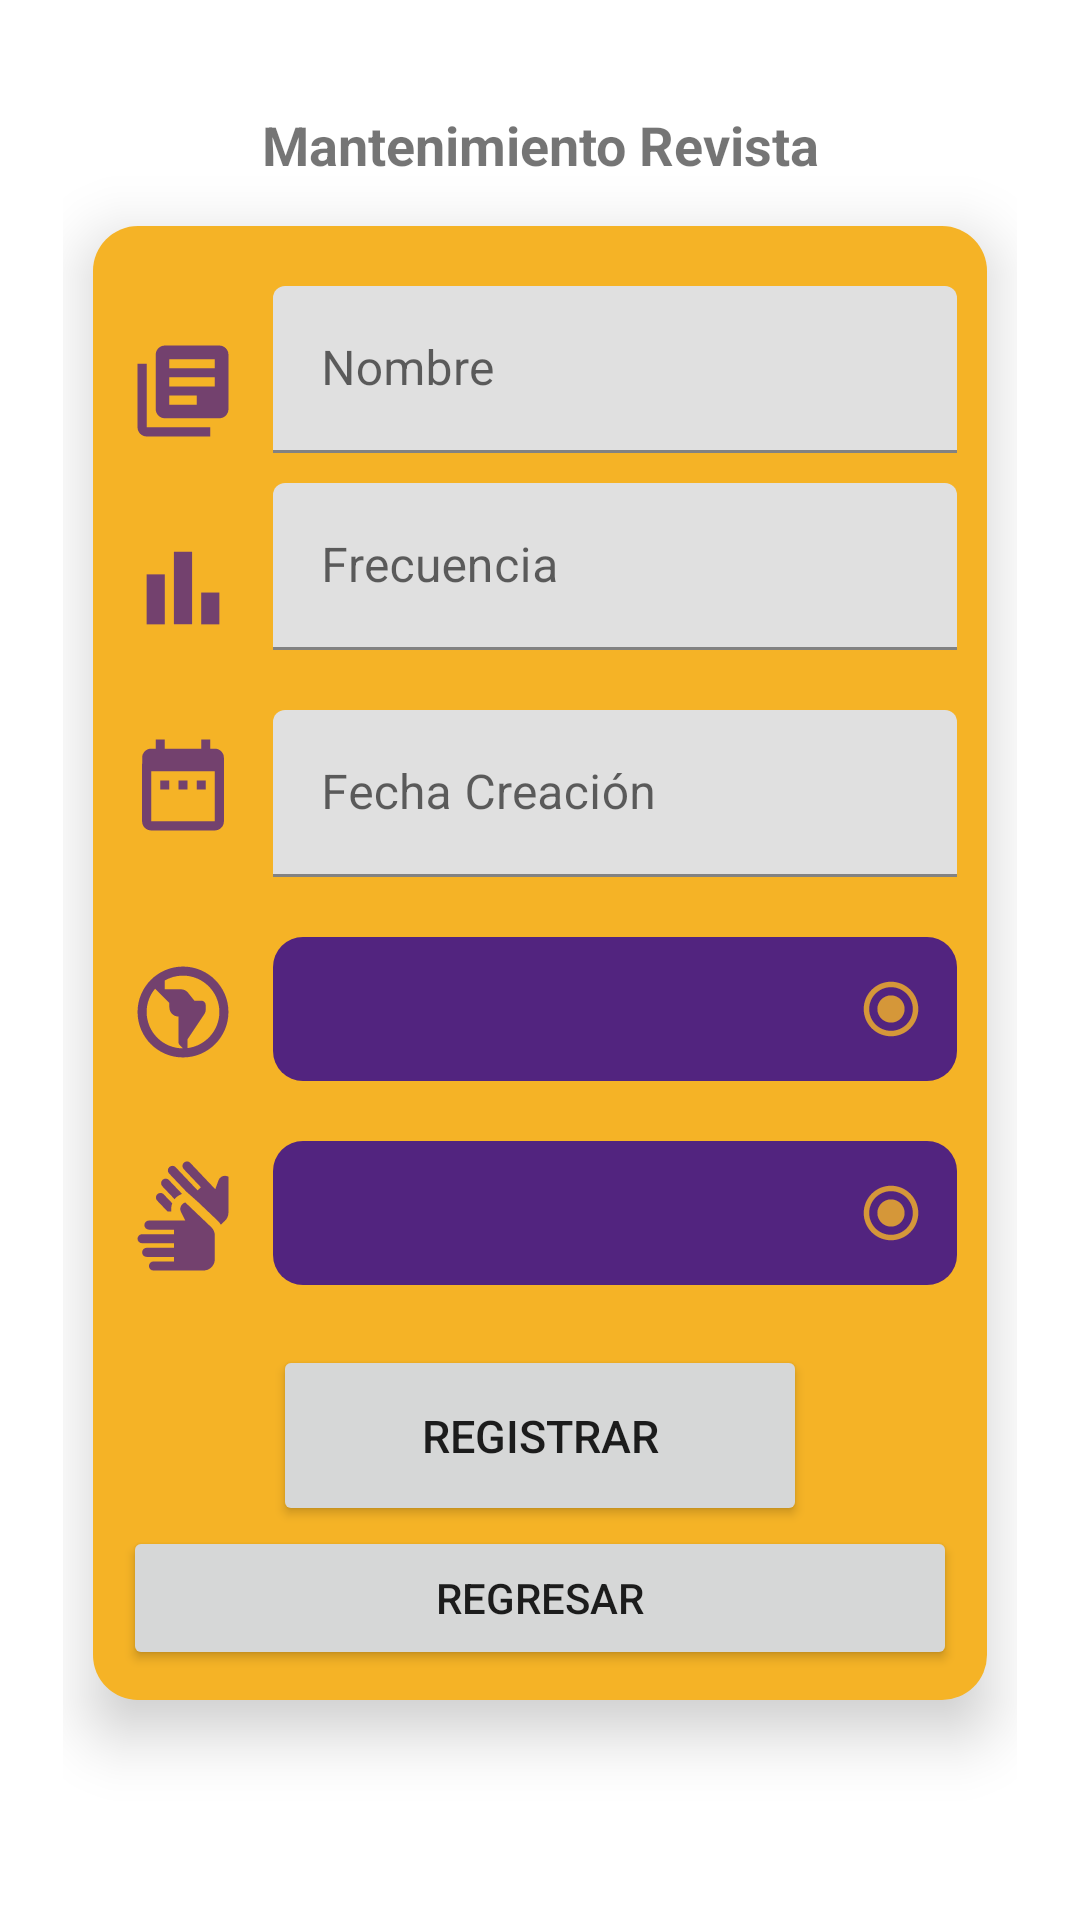

Icons on this 1080x1920 Android screen, each with its box as BBox(x1, y1, x2, y2):
book revista: BBox(137, 345, 229, 437)
fechacreac revista: BBox(142, 739, 224, 831)
pais revista: BBox(137, 966, 229, 1058)
